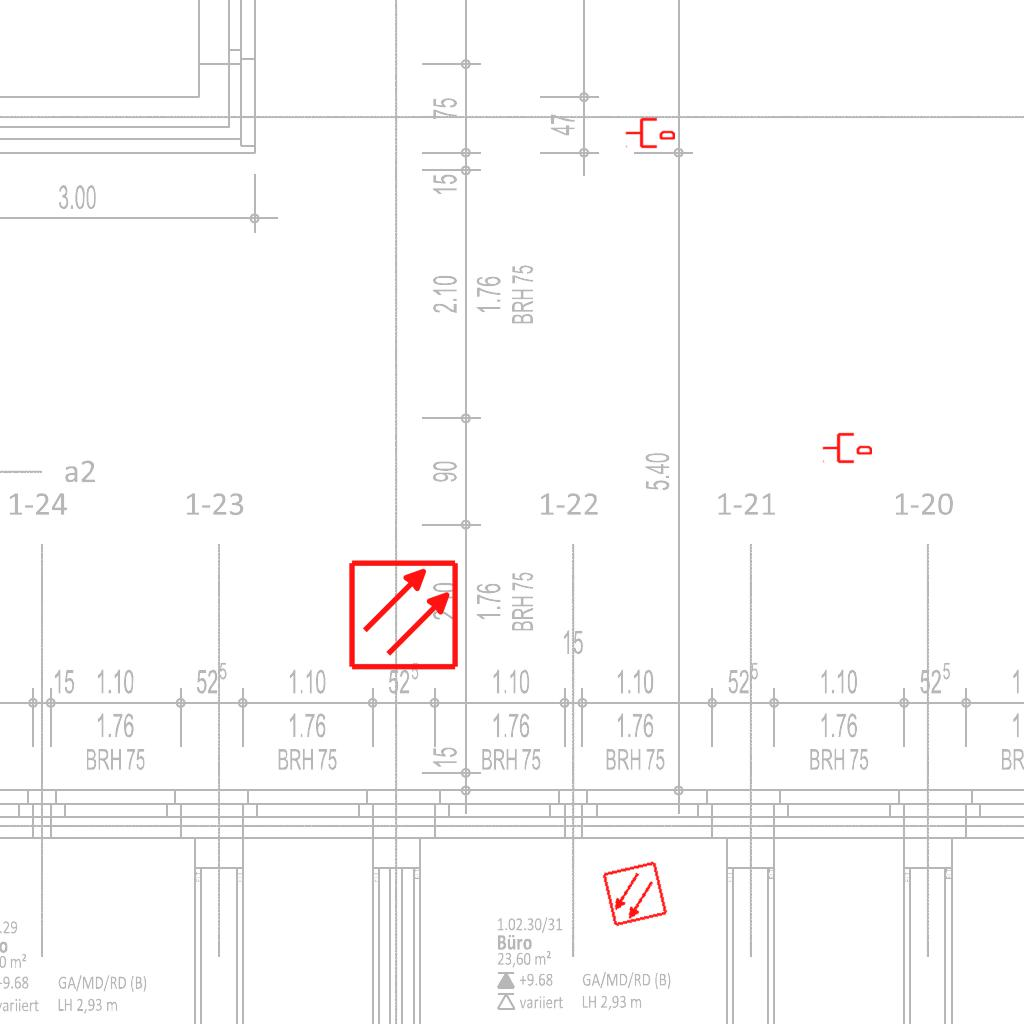Datenanschluss_einfach: (822, 431, 872, 465), (625, 116, 675, 150)
RMO_Rauchmelder_optischer: (347, 558, 460, 671), (601, 860, 669, 928)
